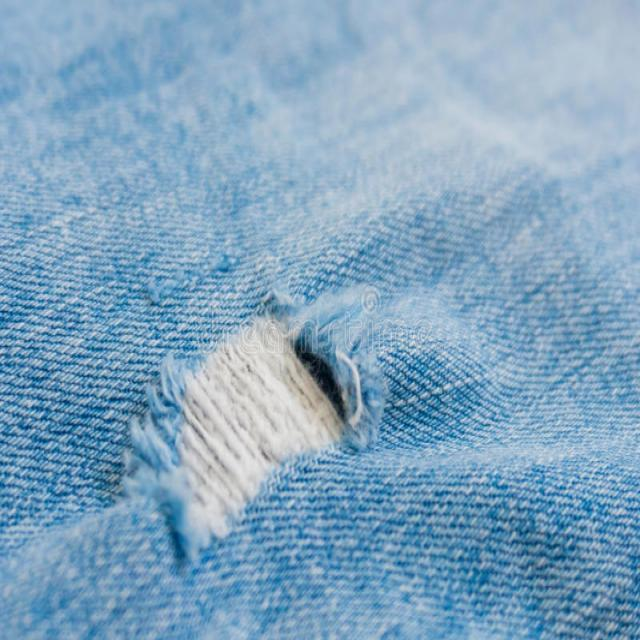Hole: (123, 318, 345, 565)
